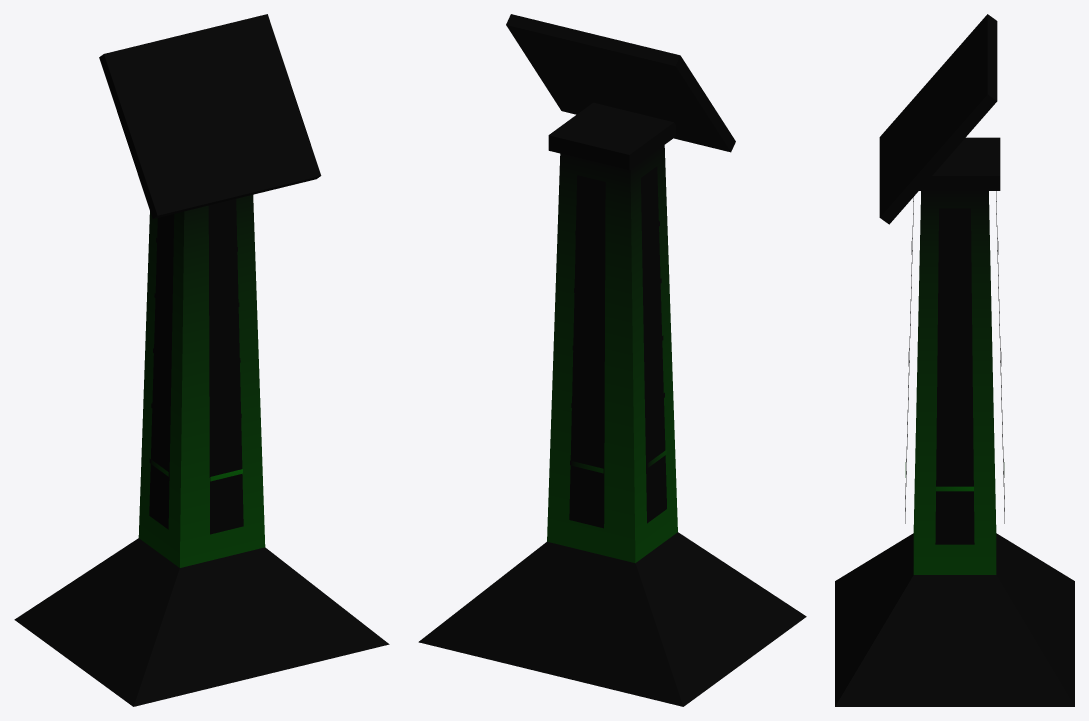
The model's file is sensortower.glb.
3 views of the same model, side by side, from view 1: azimuth 30°, elevation 25°; view 2: azimuth 150°, elevation 25°; view 3: azimuth 270°, elevation 25° (orthographic). The views are drawn at different scales.
Visible parts, largest first — view 1: lod0; view 2: lod0; view 3: lod0.
Boxes of the visible parts, left/top/right/bottom form: lod0: left=14, top=14, right=389, bottom=706; lod0: left=418, top=14, right=806, bottom=706; lod0: left=835, top=14, right=1074, bottom=706.
Size of what is drawn, in the model's own units: 7.2 by 15.74 by 5.8.
